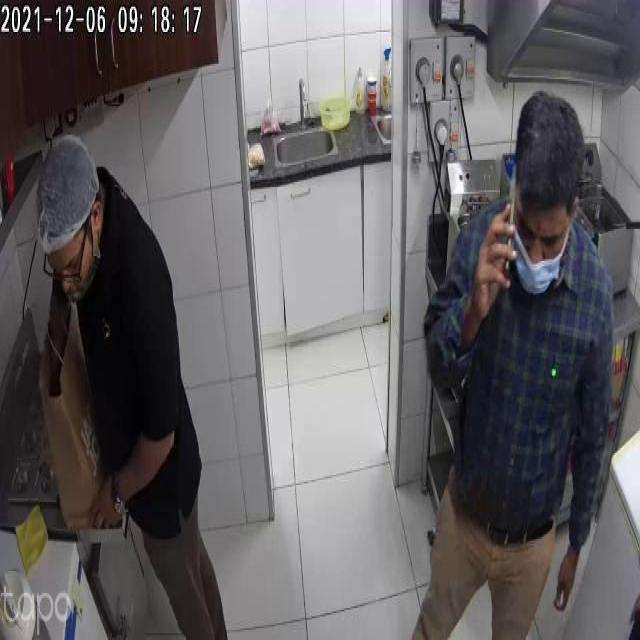bare_hand: (474, 214, 517, 320), (551, 522, 586, 627), (82, 477, 130, 541)
